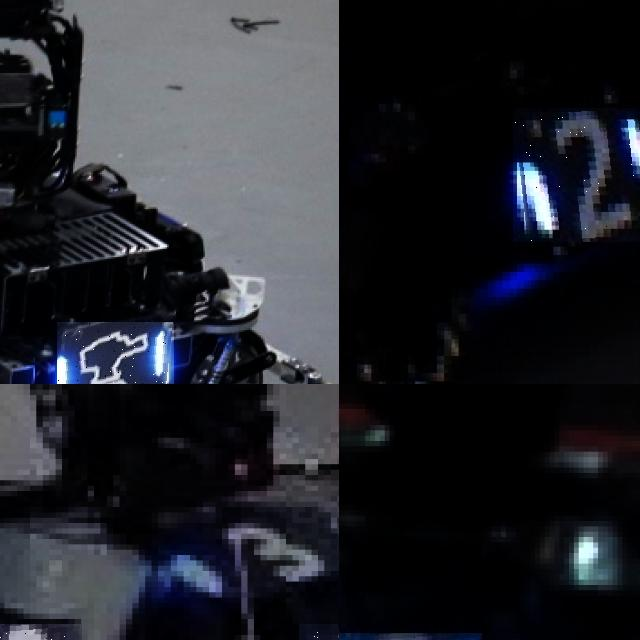B2: (513, 107, 640, 242)
B3: (158, 517, 339, 592)
Bs: (56, 321, 174, 384)
